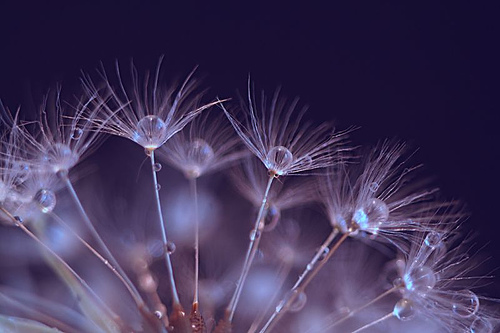dandelion: (3, 45, 483, 333)
